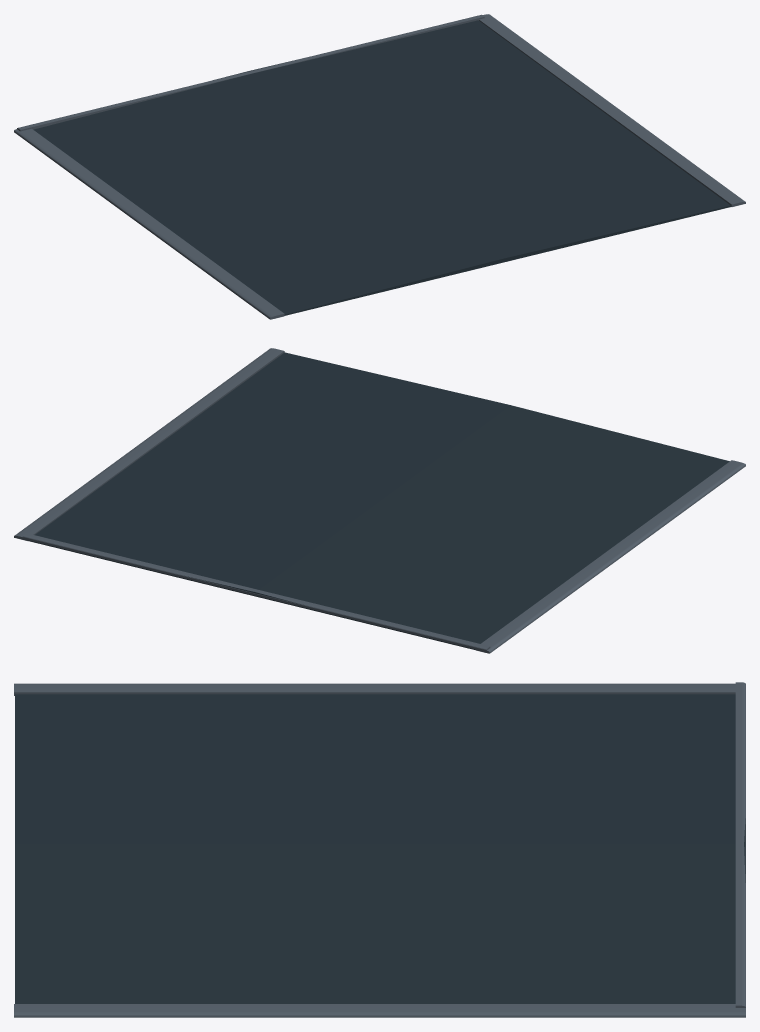
Rendered from ParkingLot.fbx.
3 renders of one model, top to bottom at view 1: azimuth 30°, elevation 25°; view 2: azimuth 150°, elevation 25°; view 3: azimuth 270°, elevation 25°, orthographic. The views are drawn at different scales.
Visible parts, largest first — view 1: ParkingLot; view 2: ParkingLot; view 3: ParkingLot.
Part boxes in pixels (x1,y1,x2,y2): ParkingLot: (14, 14, 745, 319); ParkingLot: (14, 348, 745, 653); ParkingLot: (14, 682, 745, 1017).
Size of the model in its own units: 4510 by 37.4 by 4210.
